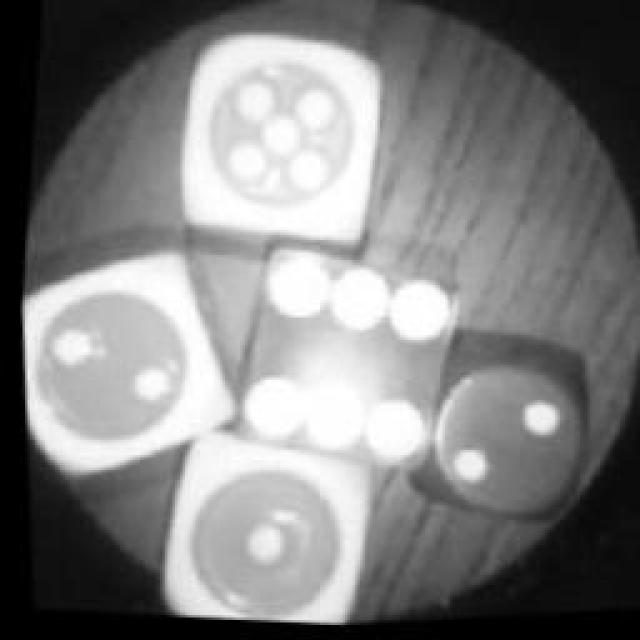dice_1: (132, 409, 398, 629)
dice_2: (8, 245, 248, 500), (392, 328, 612, 548)
dice_5: (142, 10, 398, 272)
dice_6: (204, 222, 478, 498)
